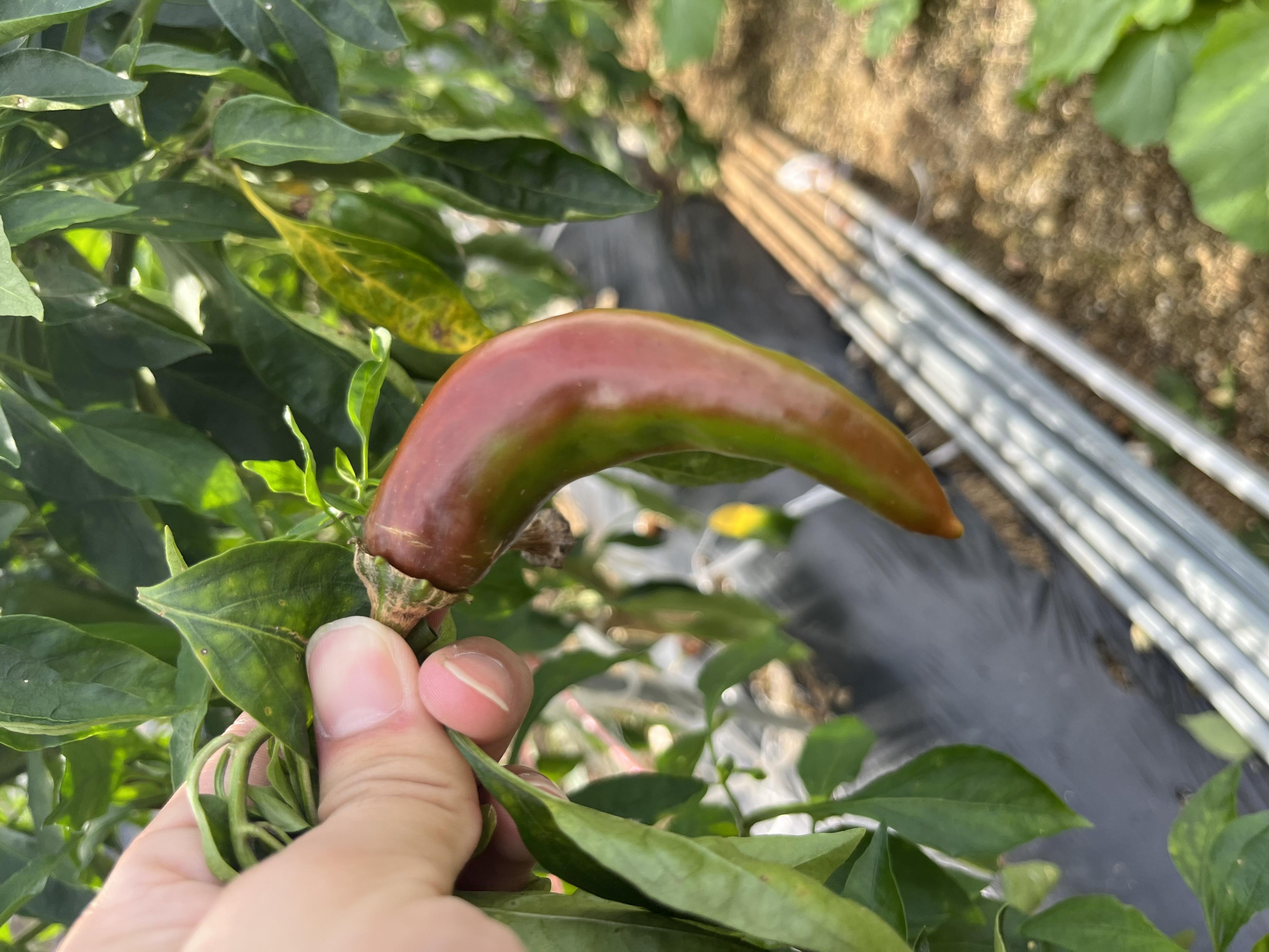Buah Cabai Sehat: (415, 255, 891, 736)
